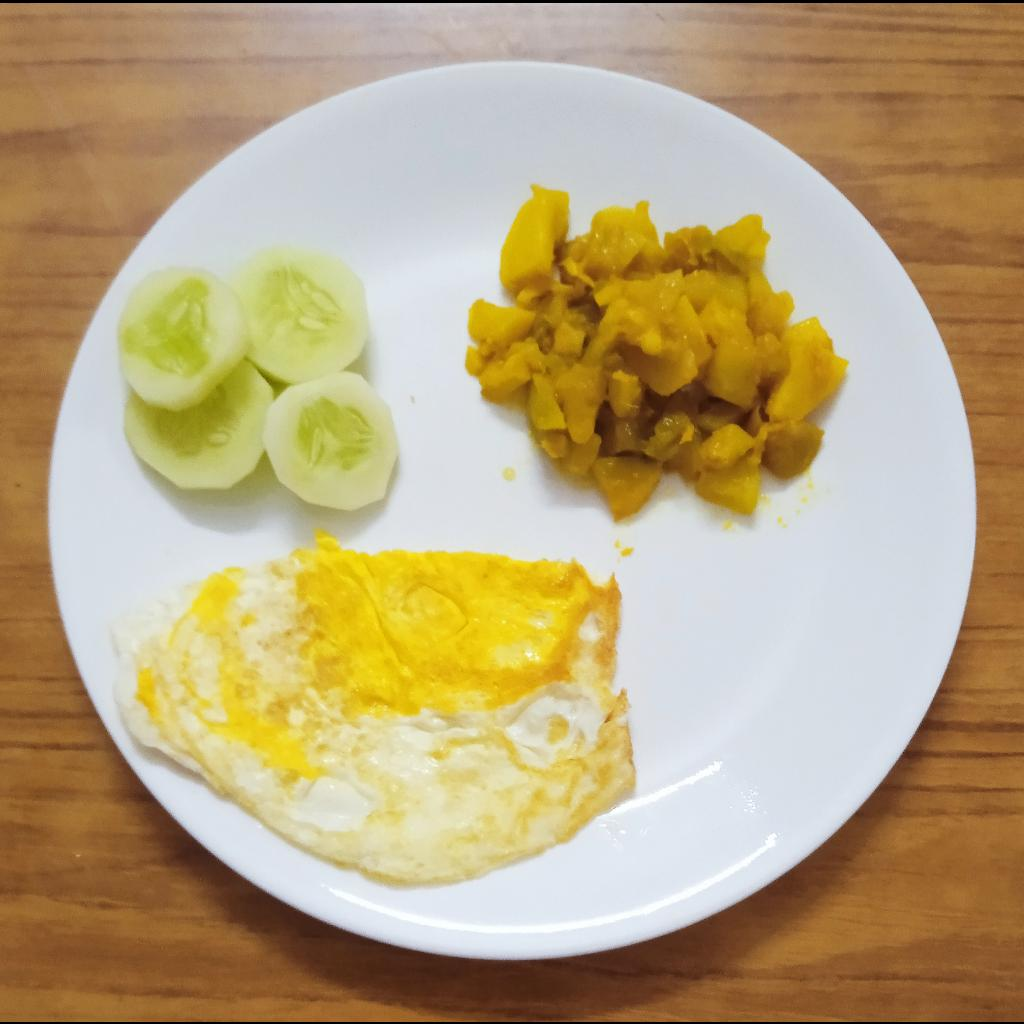cucumber: (115, 237, 399, 516)
egg-poached: (107, 531, 639, 882)
potol: (465, 185, 854, 521)
